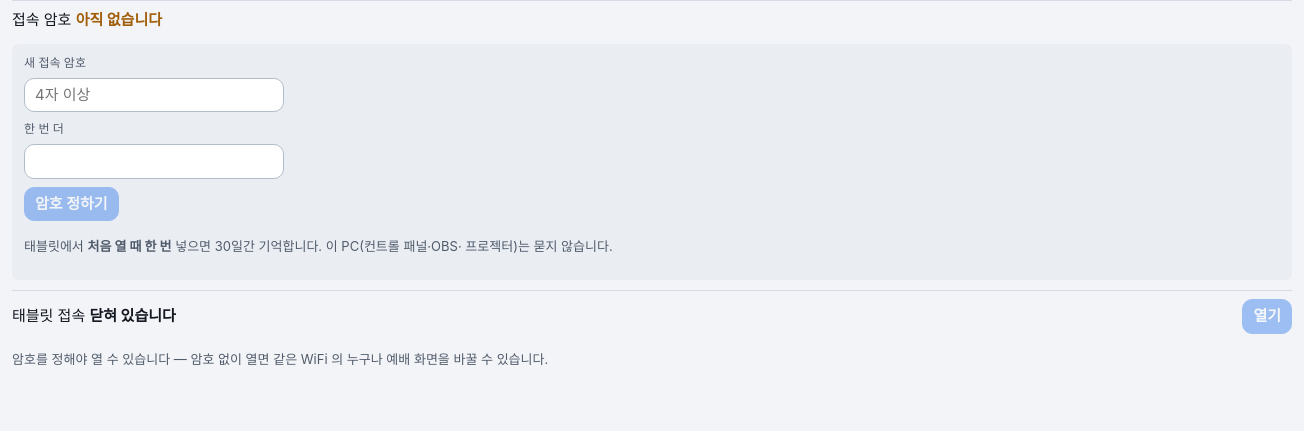
Test: 암호 정하기 › 두 번 넣은 값이 다르면 저장할 수 없다
The image size is (1304, 431).
In the password field labelled "새 접속 암호": {"x": 154, "y": 95} 24,78 -> 284,112, type "암호1234"
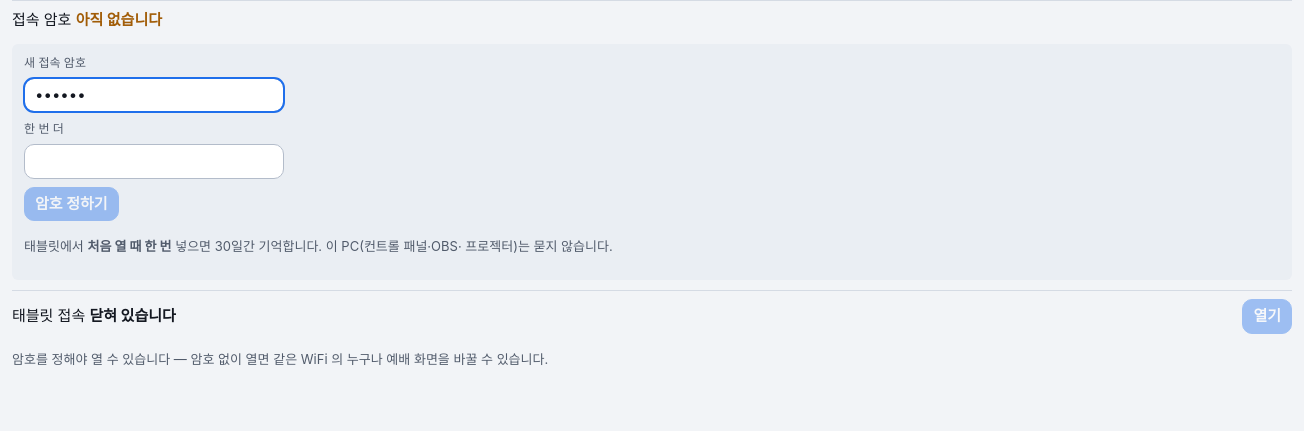
In the password field labelled "한 번 더": {"x": 154, "y": 161} 24,144 -> 284,178, type "암호5678"
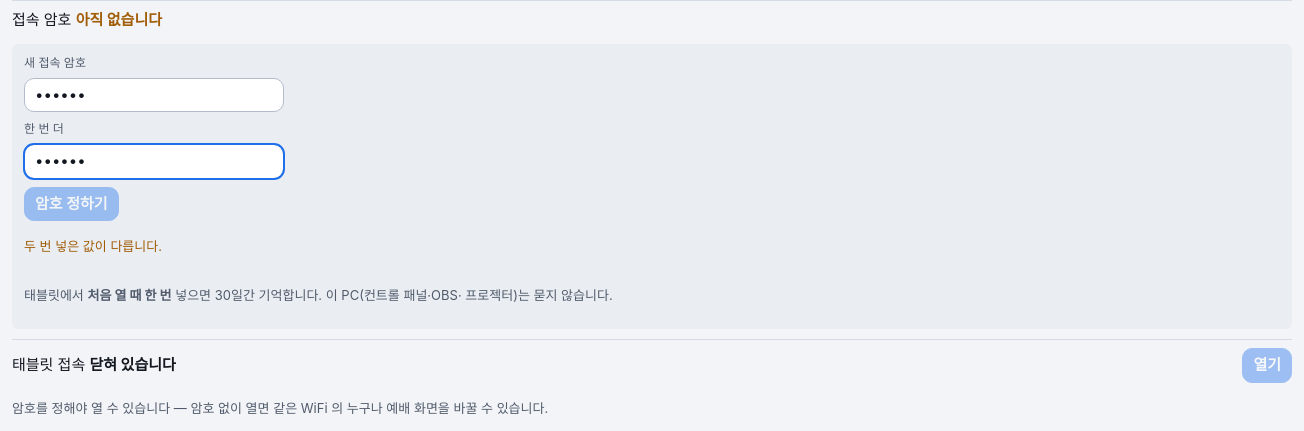
Expected: the button "암호 정하기" is disabled, 24,186 -> 119,221
Result: the text "두 번 넣은 값이 다릅니다." is shown at 24,238 -> 162,254
